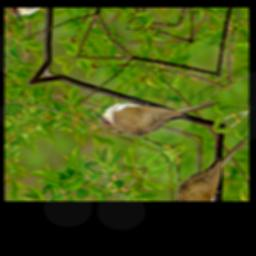Cuckoo: (92, 60, 223, 157)
